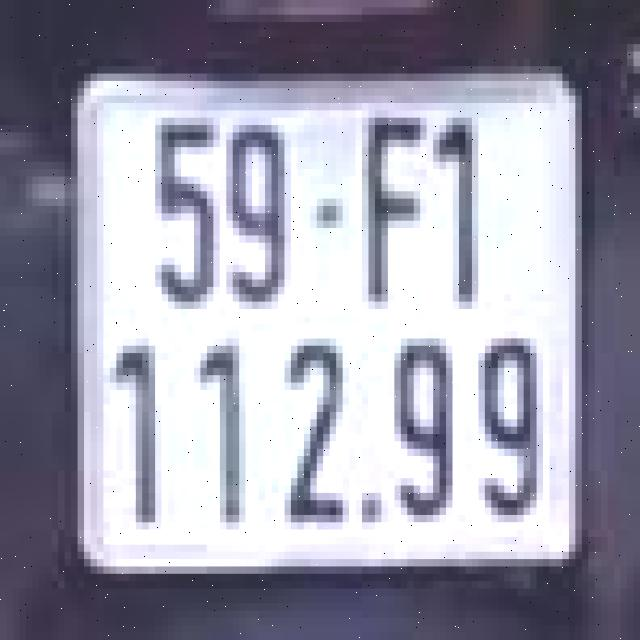1: (430, 96, 494, 316), (194, 334, 259, 540), (110, 331, 174, 530)
2: (268, 331, 352, 530)
5: (148, 107, 220, 305)
9: (223, 110, 301, 316), (475, 320, 553, 526), (388, 331, 465, 537)
F: (346, 99, 436, 320)
